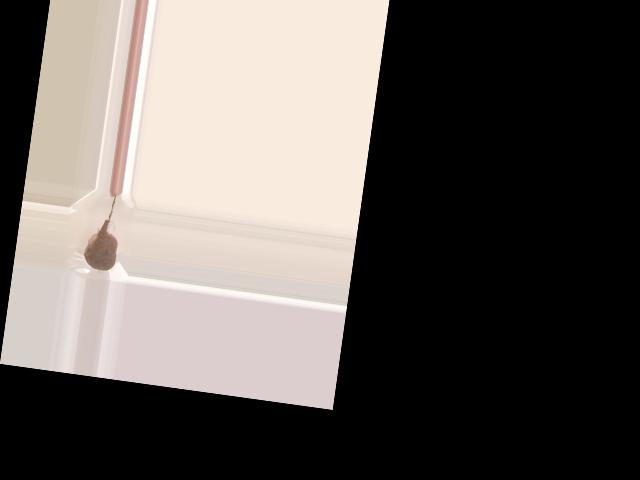beet: (81, 191, 124, 272)
